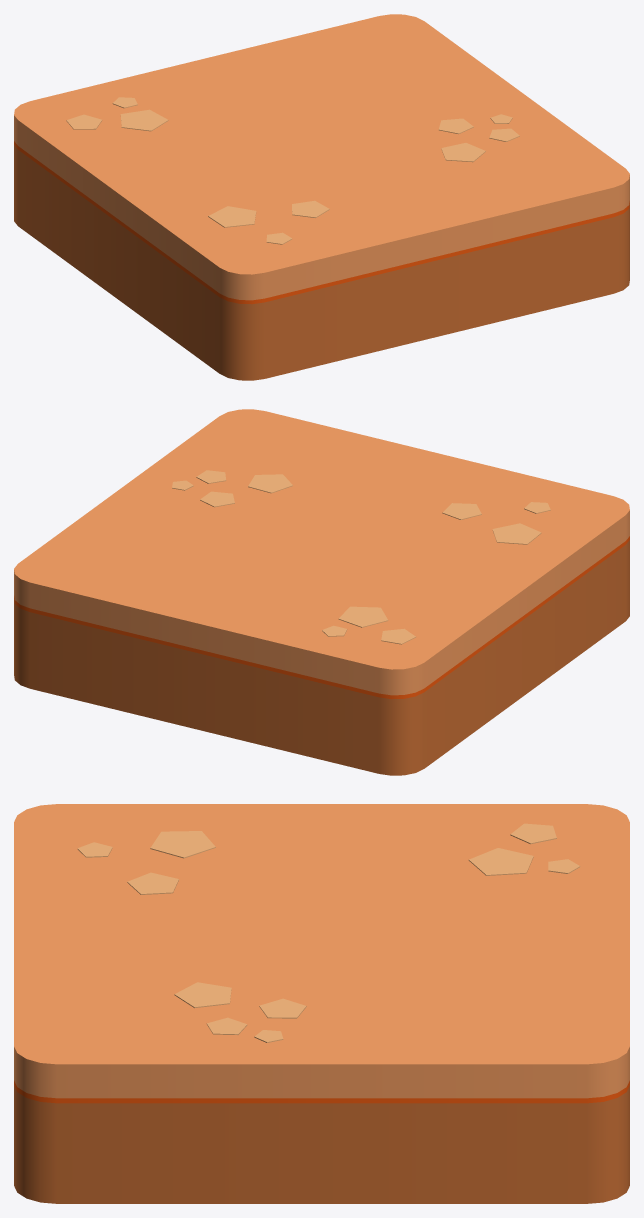
File: RedIsland.fbx
3 views of the same model, one above another, from view 1: azimuth 30°, elevation 25°; view 2: azimuth 150°, elevation 25°; view 3: azimuth 270°, elevation 25° (orthographic). The views are drawn at different scales.
Visible parts, largest first — view 1: Plane; view 2: Plane; view 3: Plane.
Boxes of the visible parts, x1=… form: Plane: x1=14, y1=14, x2=629, y2=380; Plane: x1=14, y1=409, x2=629, y2=775; Plane: x1=14, y1=804, x2=629, y2=1203.
Size of the model in its own units: 800 by 201 by 800.
